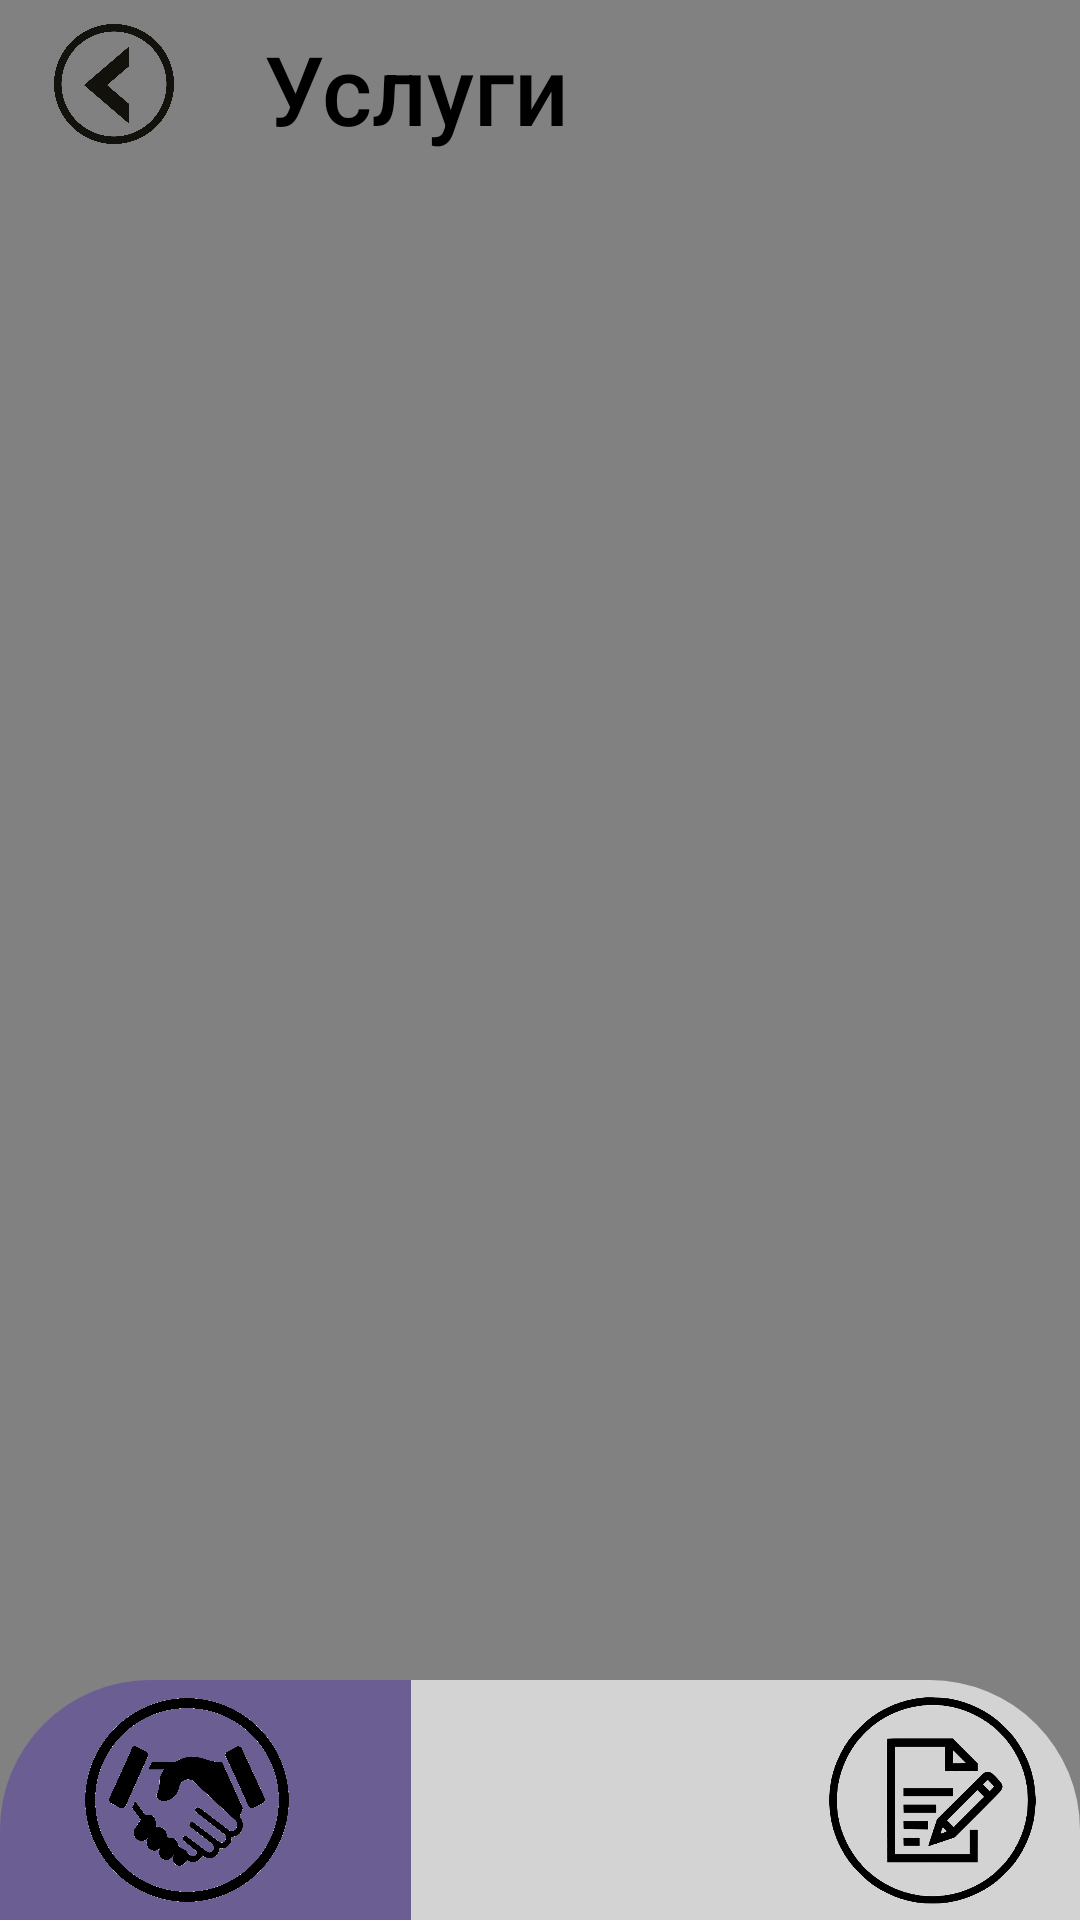

Where icons sit on this 1080x1920 app screen, as bbox(x1, y1, x2, y2):
back: bbox(54, 24, 174, 144)
uslugi: bbox(85, 1698, 289, 1902)
zapis: bbox(829, 1697, 1036, 1904)
